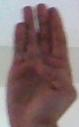B: (1, 1, 79, 127)
